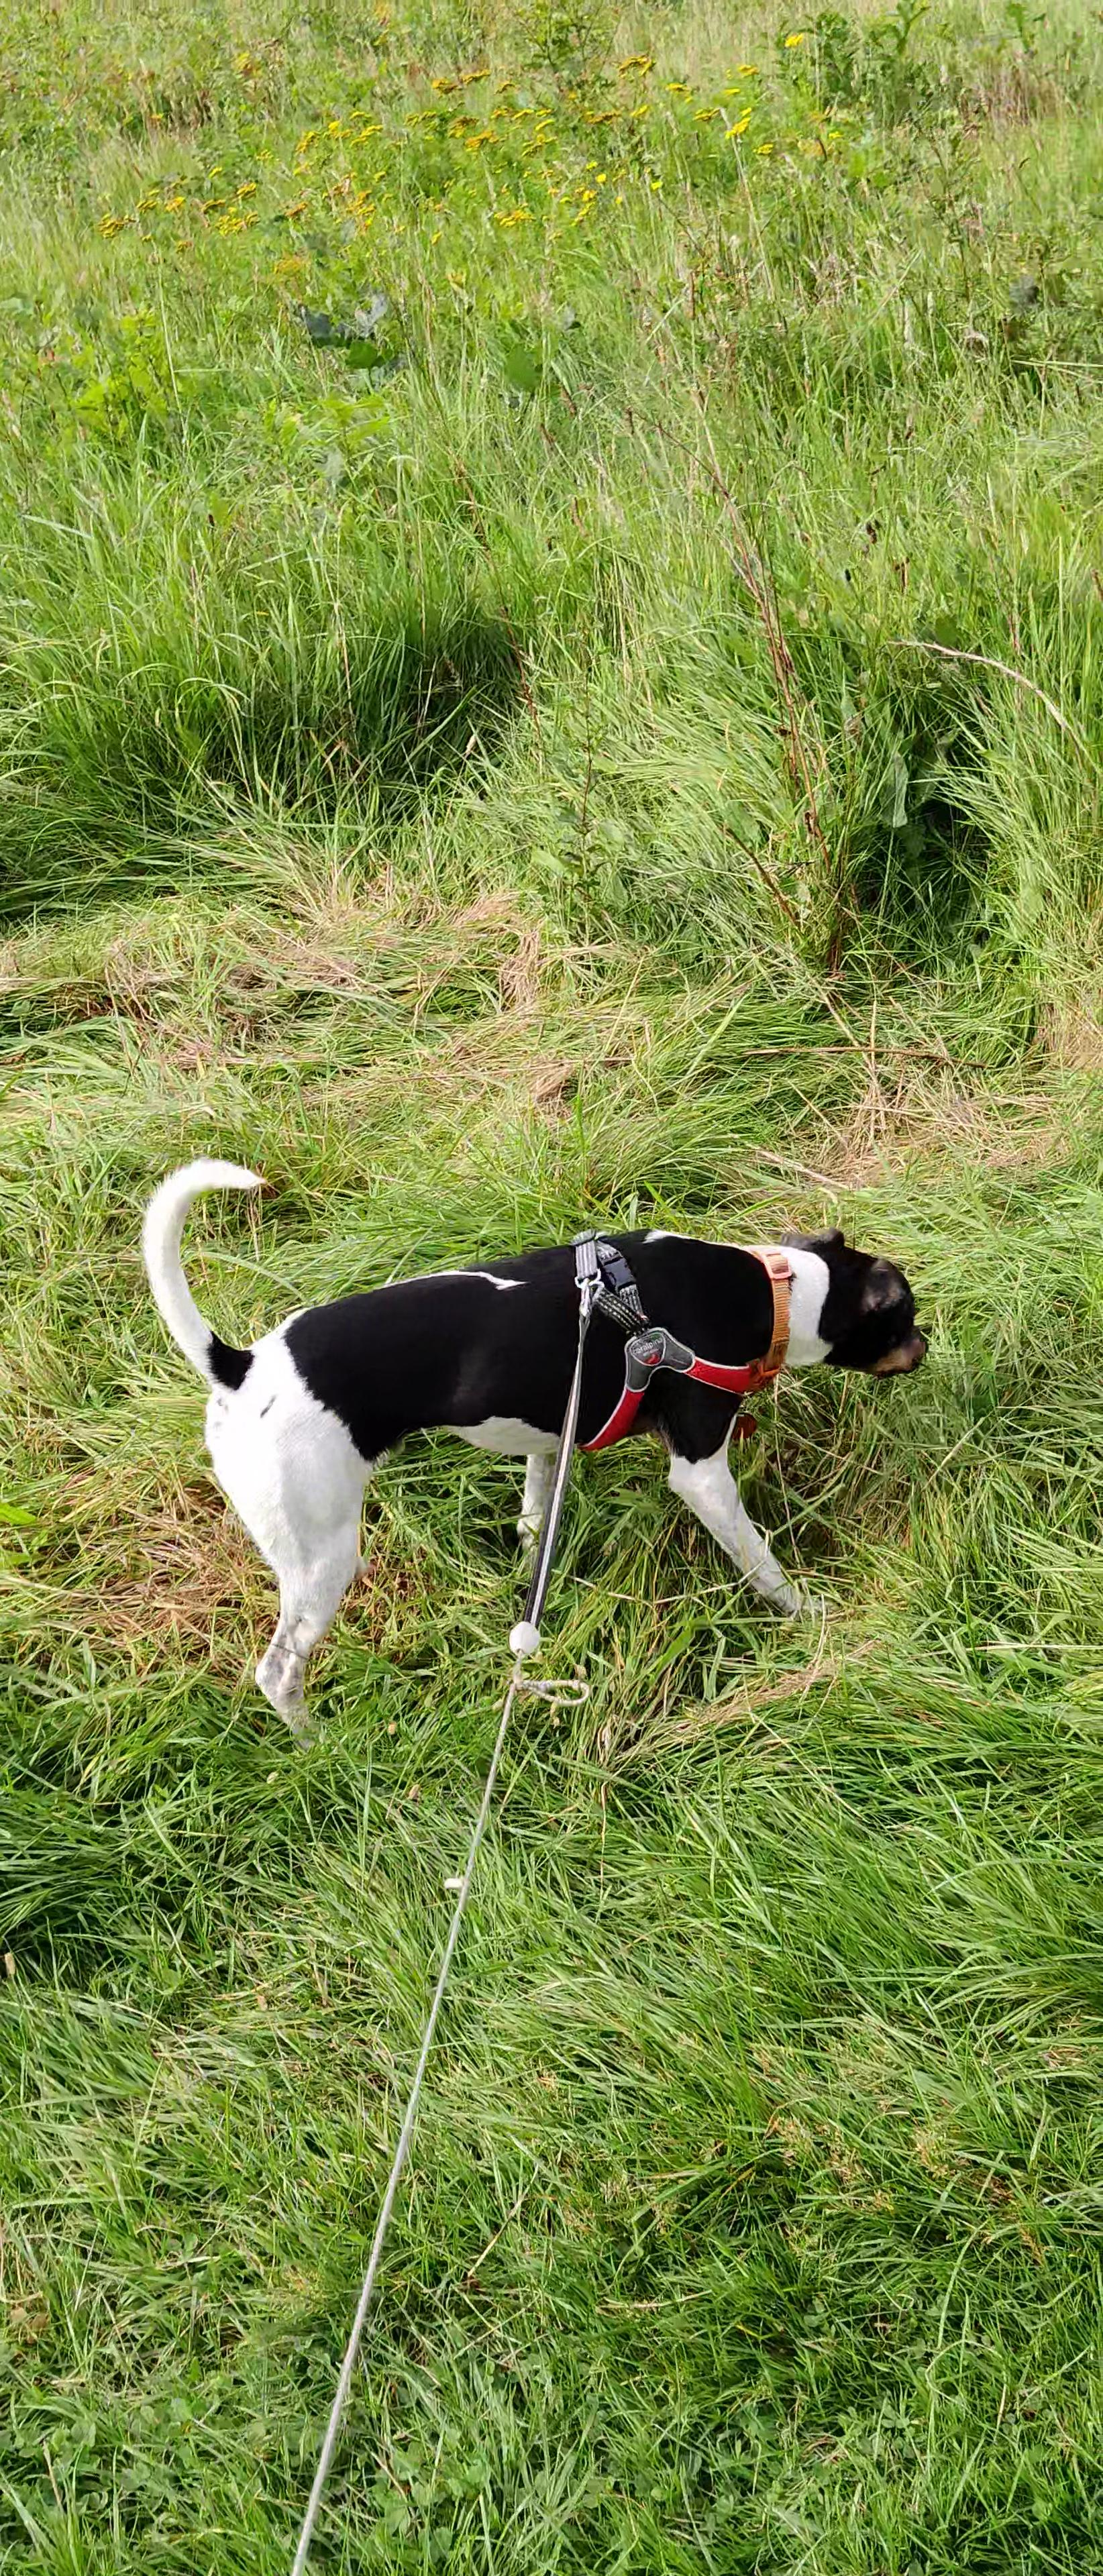Dog: (125, 1150, 939, 1745)
